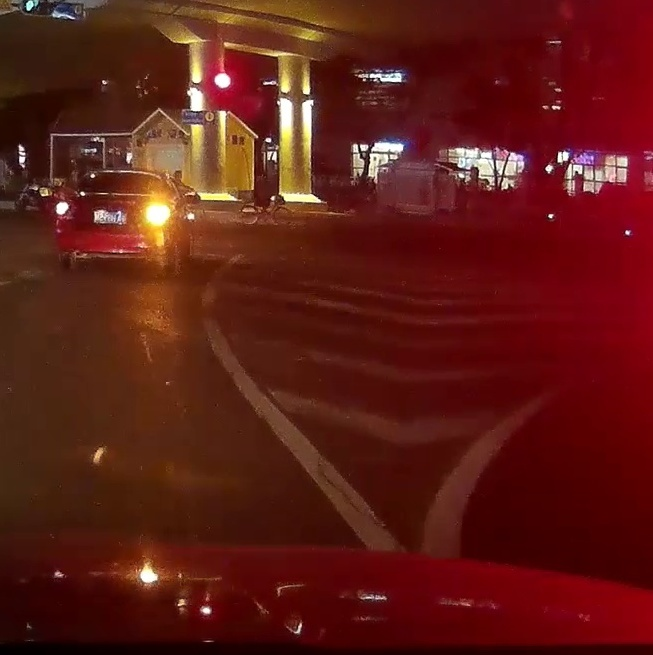L_light: (55, 200, 75, 217)
R_light: (146, 206, 169, 222)
T_light: (113, 173, 125, 177)
night-right: (48, 168, 187, 276)
